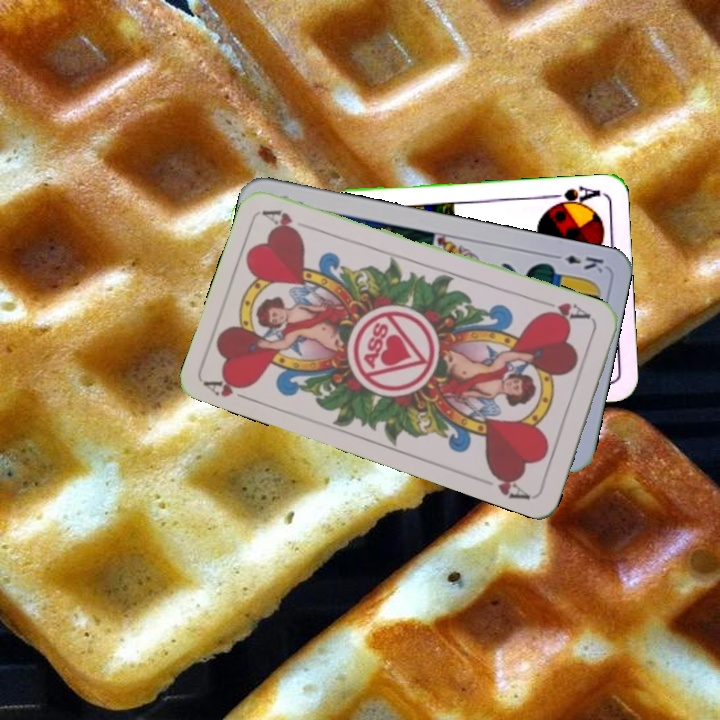EK: (548, 250, 607, 276)
HA: (202, 371, 260, 405), (537, 296, 596, 325)
SA: (543, 182, 602, 211)
